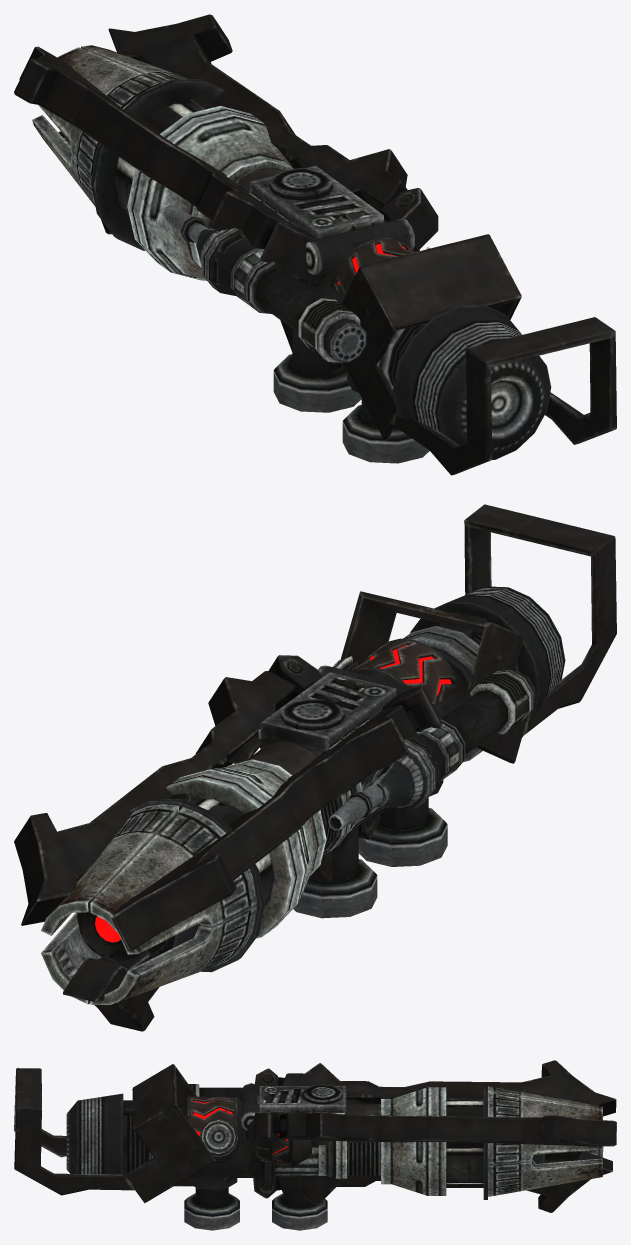
The model's file is heavy.glb.
3 renders of one model, top to bottom at view 1: azimuth 30°, elevation 25°; view 2: azimuth 150°, elevation 25°; view 3: azimuth 270°, elevation 25°, orthographic. The views are drawn at different scales.
Visible parts, largest first — view 1: Object_48, Object_55; view 2: Object_48, Object_55, Object_54; view 3: Object_55, Object_48.
Boxes of the visible parts, x1,y1,x2,y2 form: Object_48: [32, 45, 551, 463]; Object_55: [14, 14, 616, 475]; Object_48: [41, 586, 565, 1004]; Object_55: [14, 504, 616, 1031]; Object_54: [95, 645, 451, 942]; Object_55: [14, 1060, 616, 1212]; Object_48: [66, 1083, 603, 1230].
Size of the model in its own units: 0.2639 by 0.2486 by 1.
Materials: 3 (2 with a texture image).
